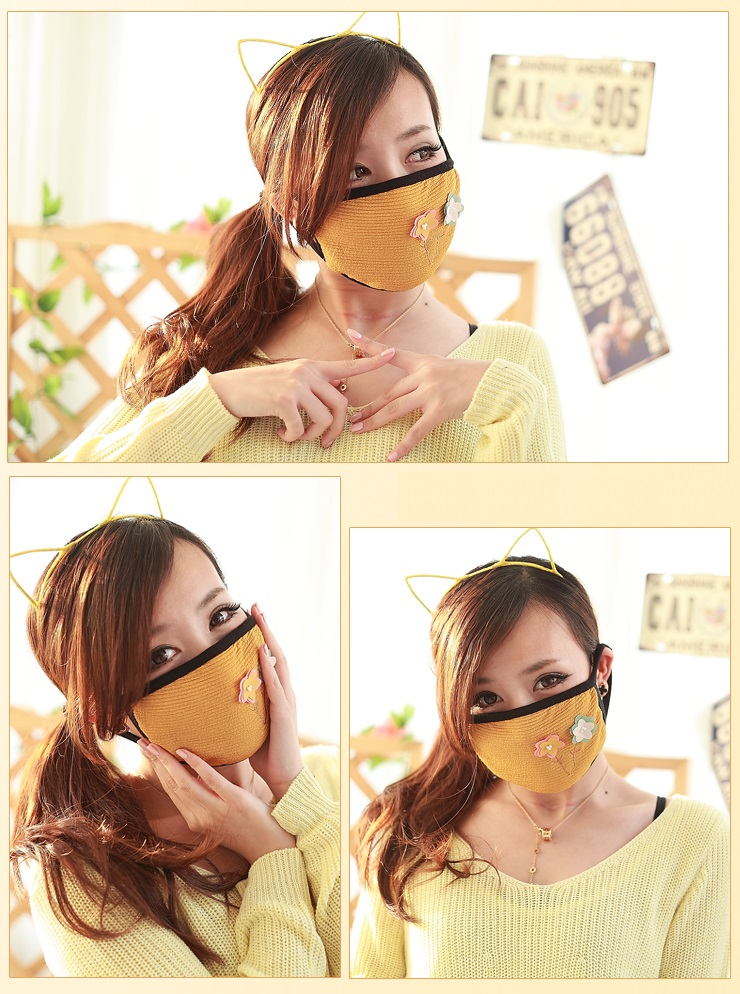face_mask: (116, 542, 269, 765), (314, 72, 447, 291), (471, 616, 600, 796)
